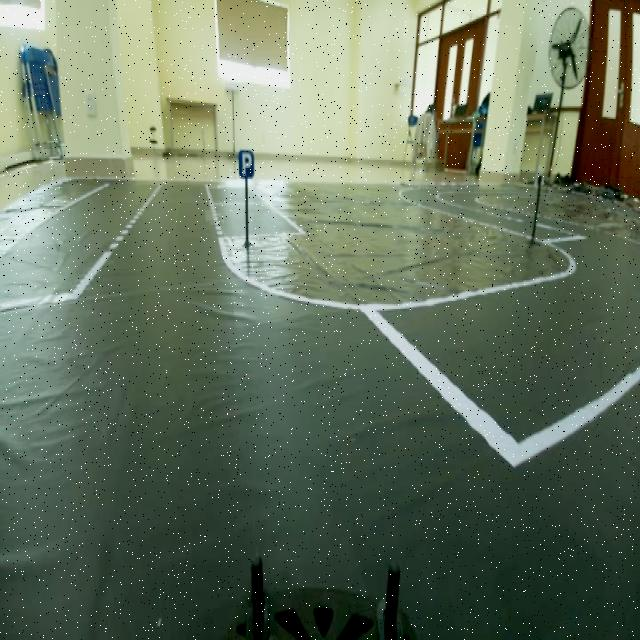parking: (234, 139, 258, 183)
